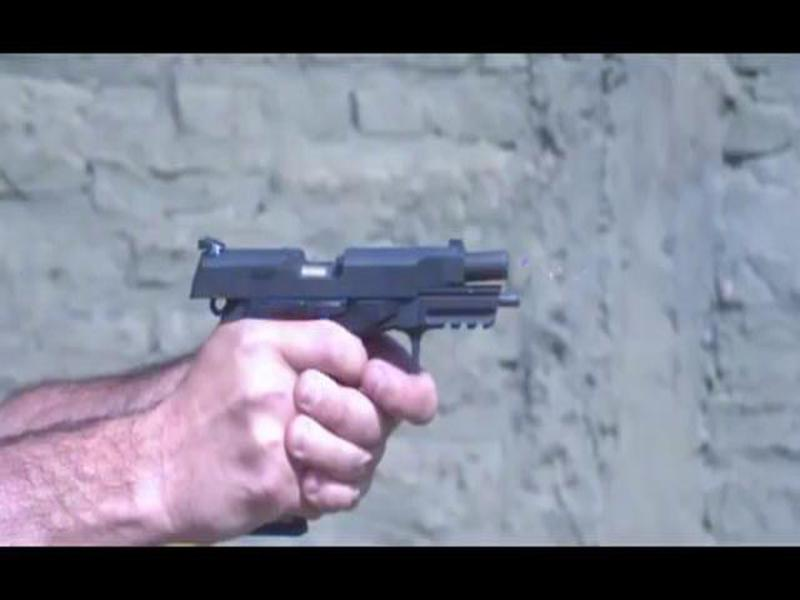Pistola: (187, 233, 527, 454)
